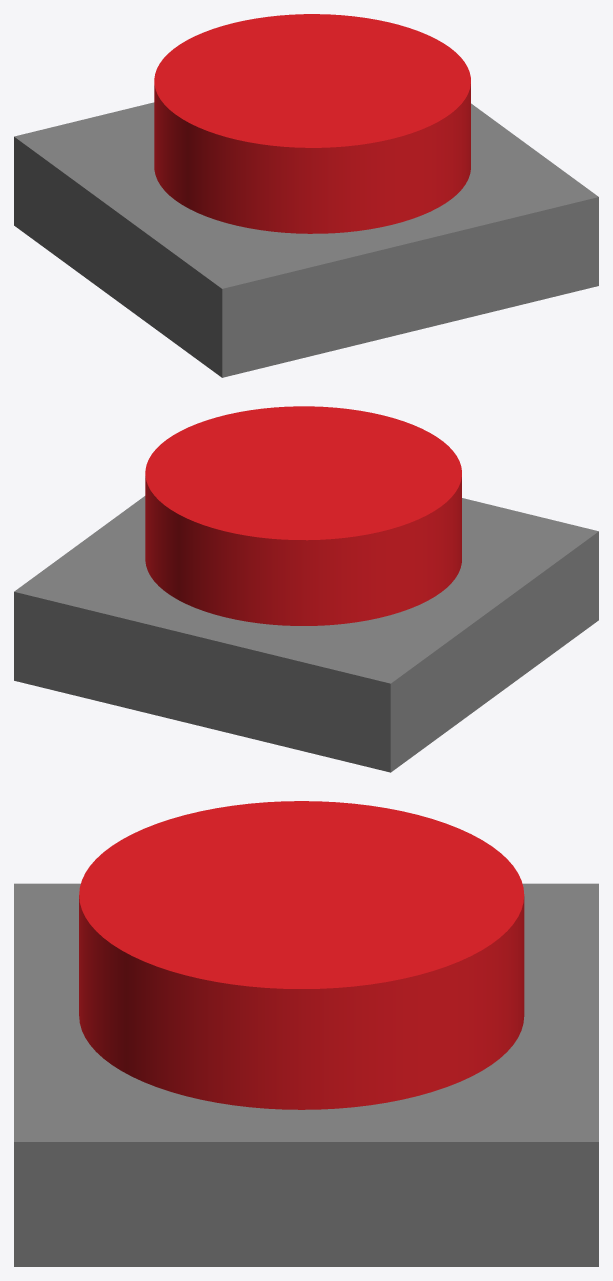
The model's file is button.glb.
3 views of the same model, one above another, from view 1: azimuth 30°, elevation 25°; view 2: azimuth 150°, elevation 25°; view 3: azimuth 270°, elevation 25° (orthographic). The views are drawn at different scales.
Parts seen in each view (by area): view 1: node_id5, node_id8; view 2: node_id5, node_id8; view 3: node_id5, node_id8.
Boxes of the visible parts, <box> form: node_id5: <box>14,102,598,377</box>; node_id8: <box>154,14,470,233</box>; node_id5: <box>14,496,598,772</box>; node_id8: <box>145,406,461,625</box>; node_id5: <box>14,883,598,1266</box>; node_id8: <box>79,801,524,1109</box>.
Size of the model in its own units: 0.512 by 0.2271 by 0.49.
Materials: 2 (2 with a texture image).
